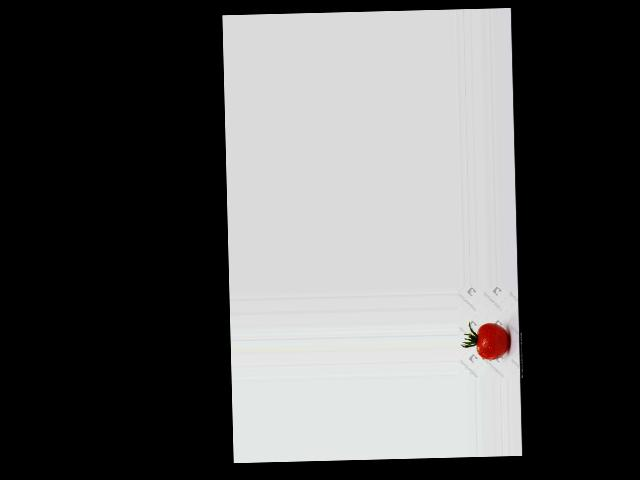tomato: (477, 322, 509, 359)
